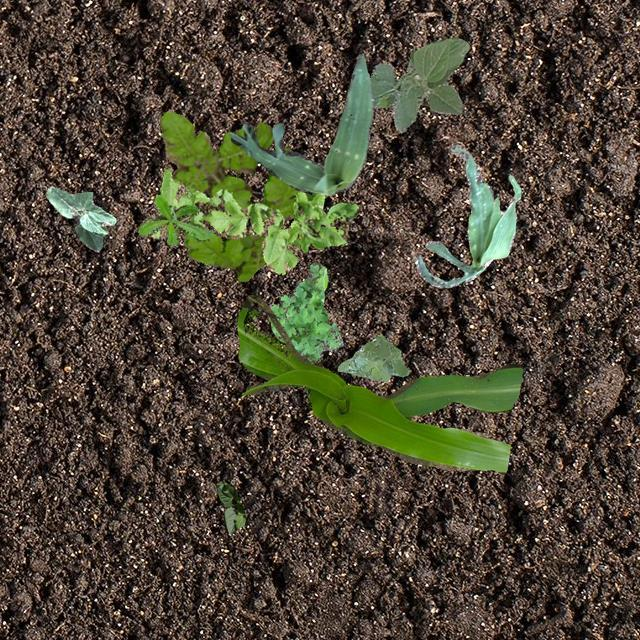crop: (236, 294, 522, 472), (228, 52, 372, 194), (412, 144, 520, 286), (368, 36, 468, 132), (44, 186, 114, 250), (216, 480, 244, 532)
weed: (158, 110, 298, 280), (152, 168, 356, 274), (268, 262, 342, 362), (136, 194, 212, 246), (337, 334, 408, 381)
